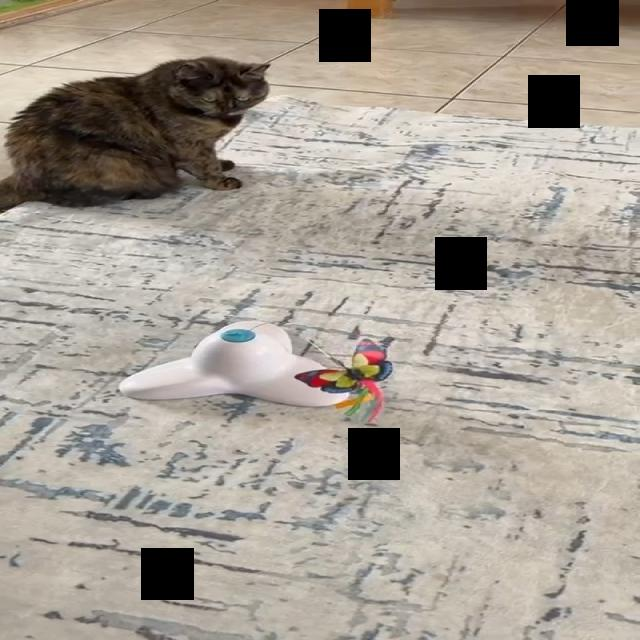authorized: (0, 55, 271, 213)
